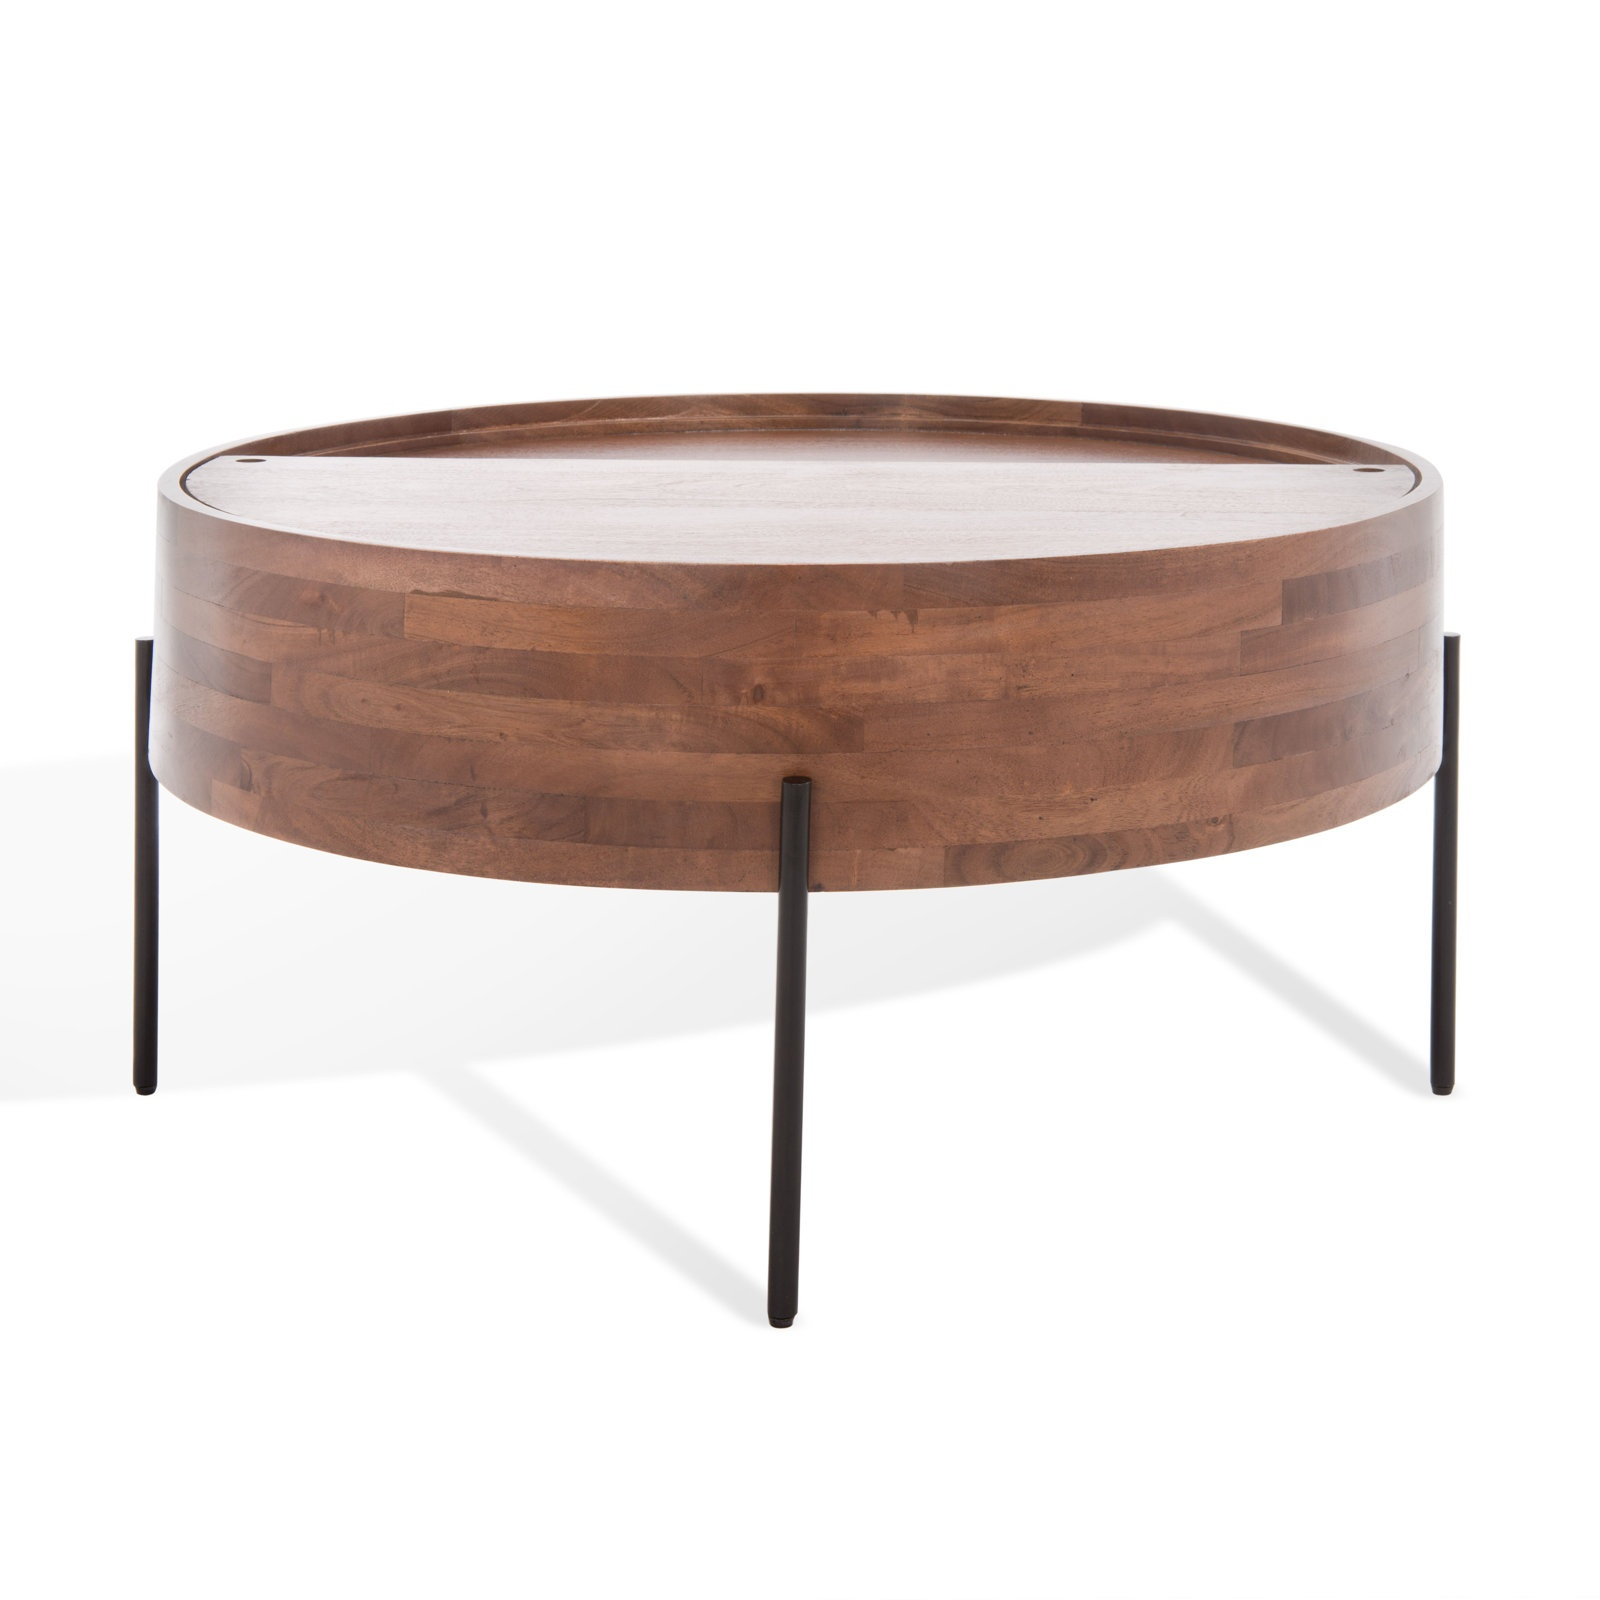obstacle: (133, 394, 1456, 1325)
